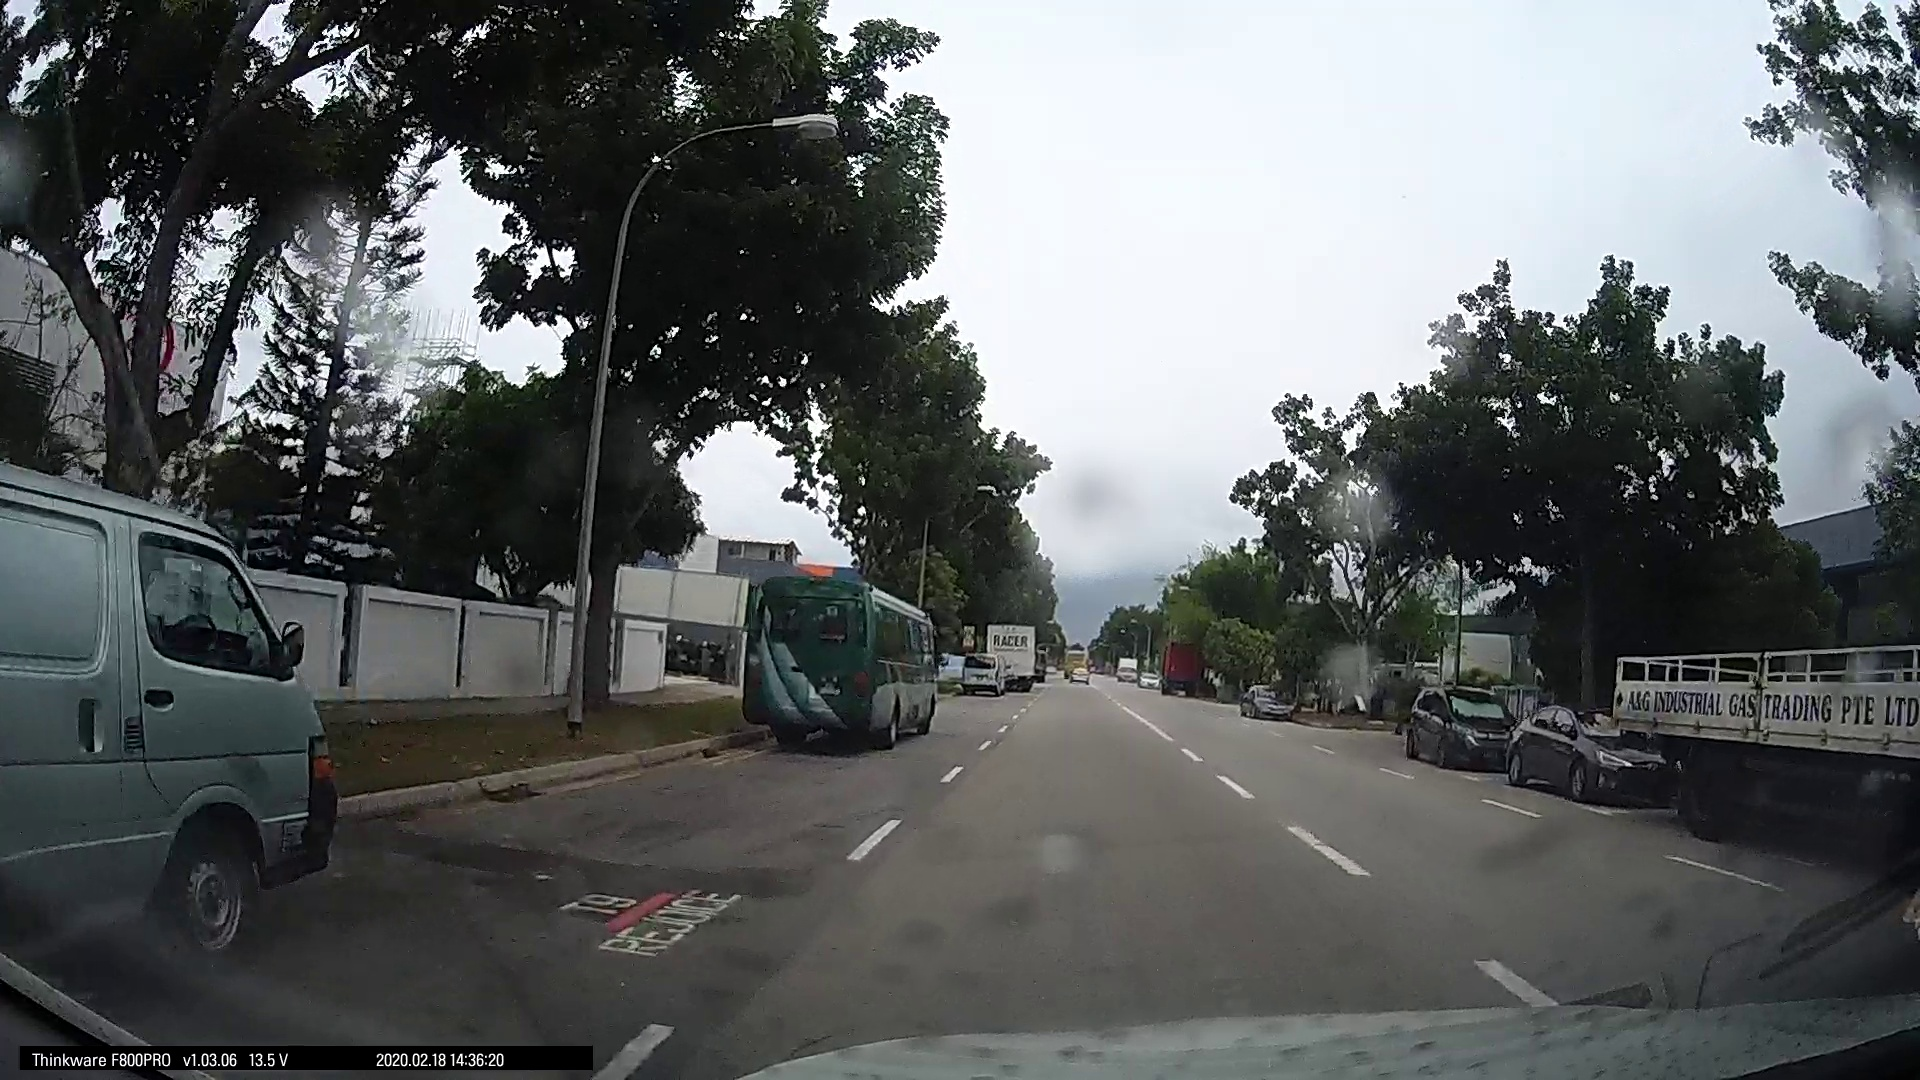Heavy Vehicle: (738, 568, 936, 748), (967, 618, 1036, 688)
Light Vehicle: (5, 465, 335, 975), (1498, 694, 1660, 800), (1399, 680, 1514, 771), (1244, 680, 1294, 719)
